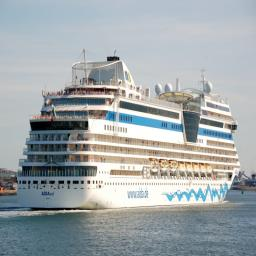cruises: (16, 56, 243, 215)
